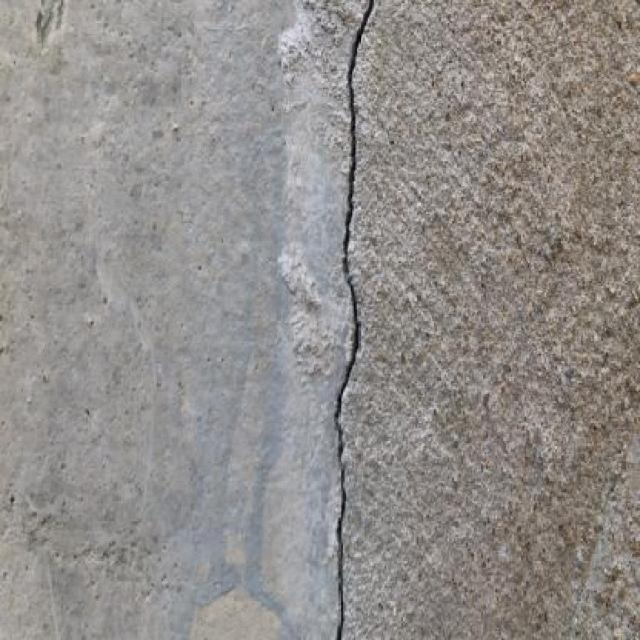vertical crack: (335, 0, 373, 638)
